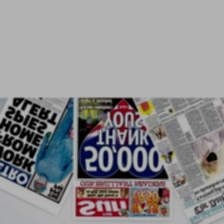news_paper: (128, 87, 224, 223), (72, 94, 172, 223), (0, 98, 87, 216)
